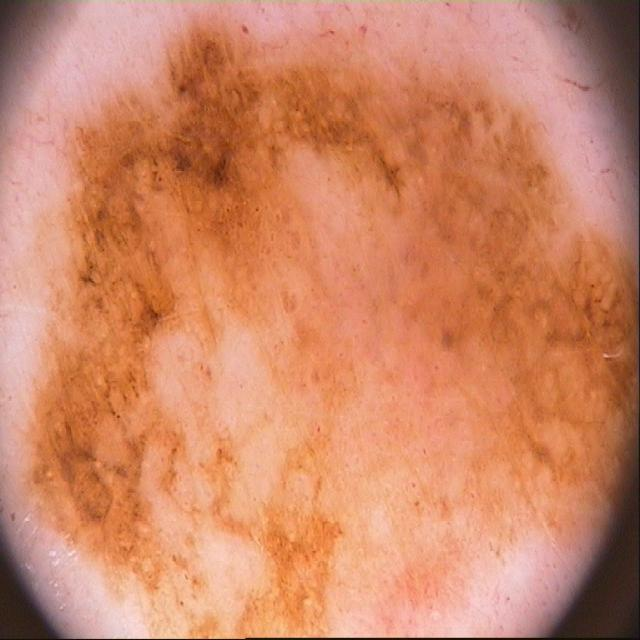Melanoma: (26, 24, 629, 626)
